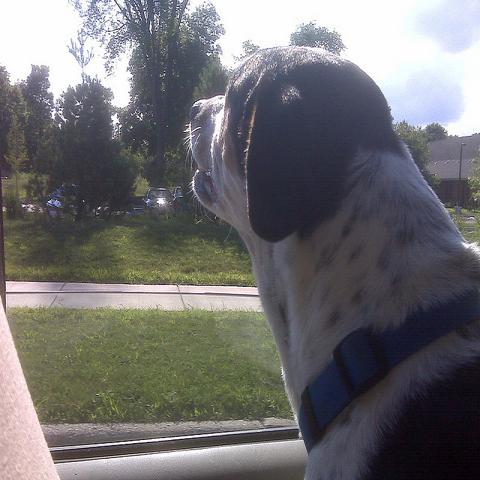car: (143, 187, 191, 214)
